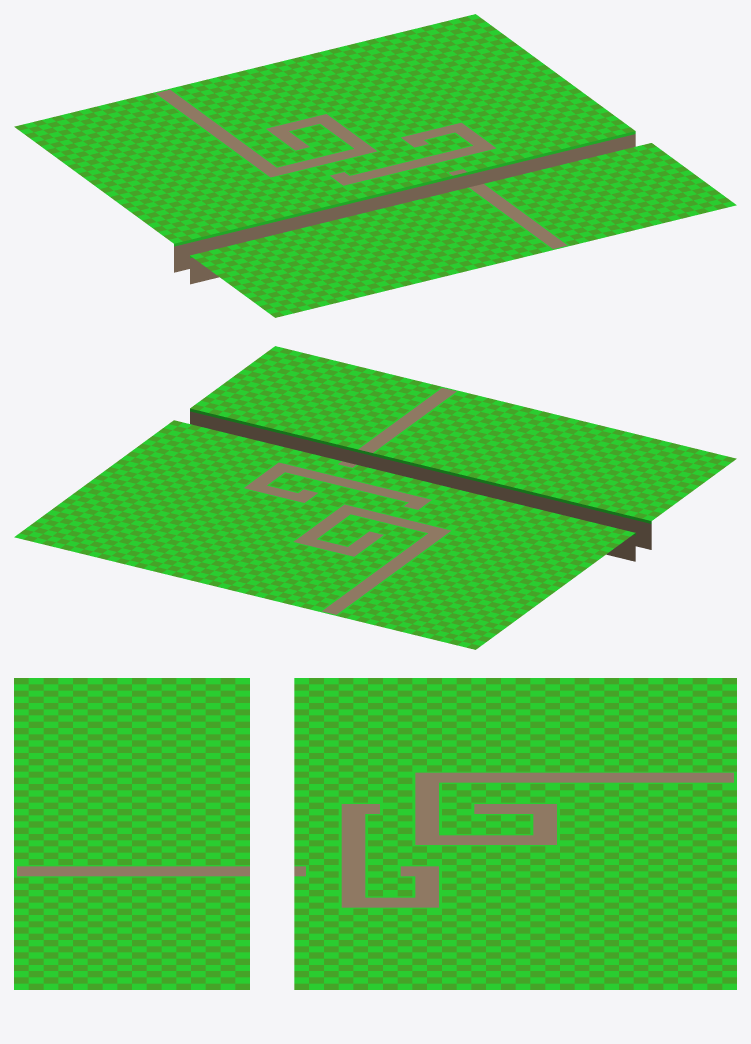
The model's file is Map 08 - 2.fbx.
The picture shows the model from 3 angles, top to bottom: view 1: azimuth 30°, elevation 25°; view 2: azimuth 150°, elevation 25°; view 3: azimuth 270°, elevation 25°; orthographic projection. The views are drawn at different scales.
Parts seen in each view (by area): view 1: Plane.022; view 2: Plane.022; view 3: Plane.022.
Part boxes in pixels (left/top/right/bottom): Plane.022: left=14, top=14, right=736, bottom=317; Plane.022: left=14, top=346, right=736, bottom=649; Plane.022: left=14, top=678, right=736, bottom=989.
Size of the model in its own units: 500 by 30 by 490.
